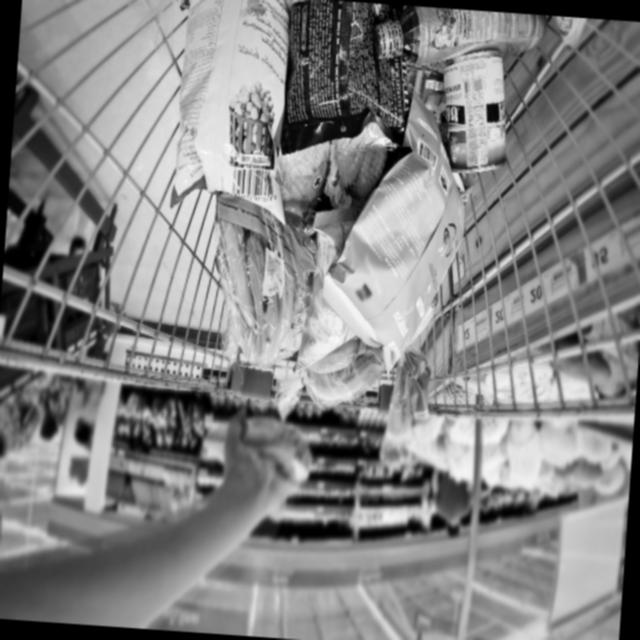banh mi: (381, 312, 448, 442)
chuoi: (207, 207, 380, 398)
